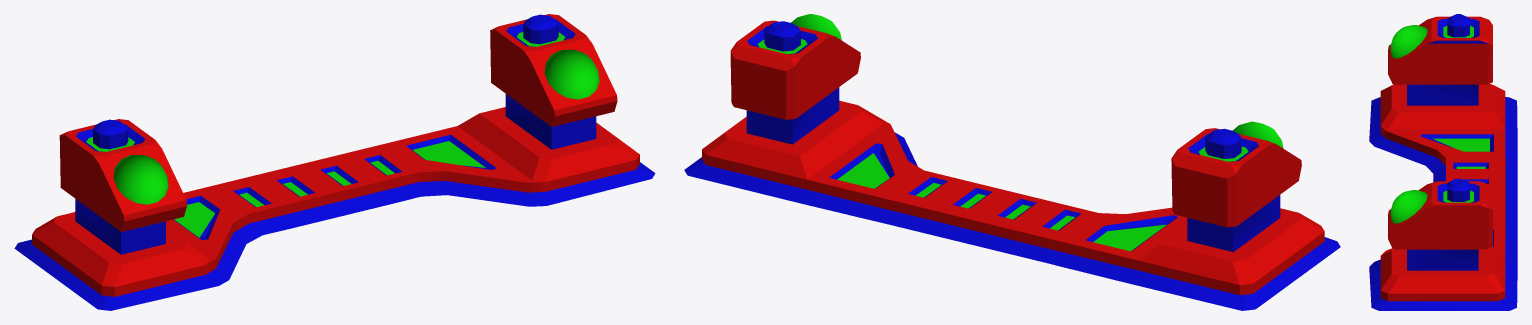
The model's file is SM_ElectricPlate01.FBX.
3 views of the same model, side by side, from view 1: azimuth 30°, elevation 25°; view 2: azimuth 150°, elevation 25°; view 3: azimuth 270°, elevation 25° (orthographic). The views are drawn at different scales.
Visible parts, largest first — view 1: ElectricPlate; view 2: ElectricPlate; view 3: ElectricPlate.
Boxes of the visible parts, <box> form: ElectricPlate: <box>14,14,655,310</box>; ElectricPlate: <box>684,14,1340,310</box>; ElectricPlate: <box>1369,14,1517,310</box>.
Bounding box in the file's own units: 674 × 153 × 198.
